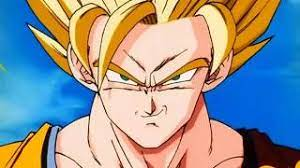Songoku: (66, 1, 231, 150)
